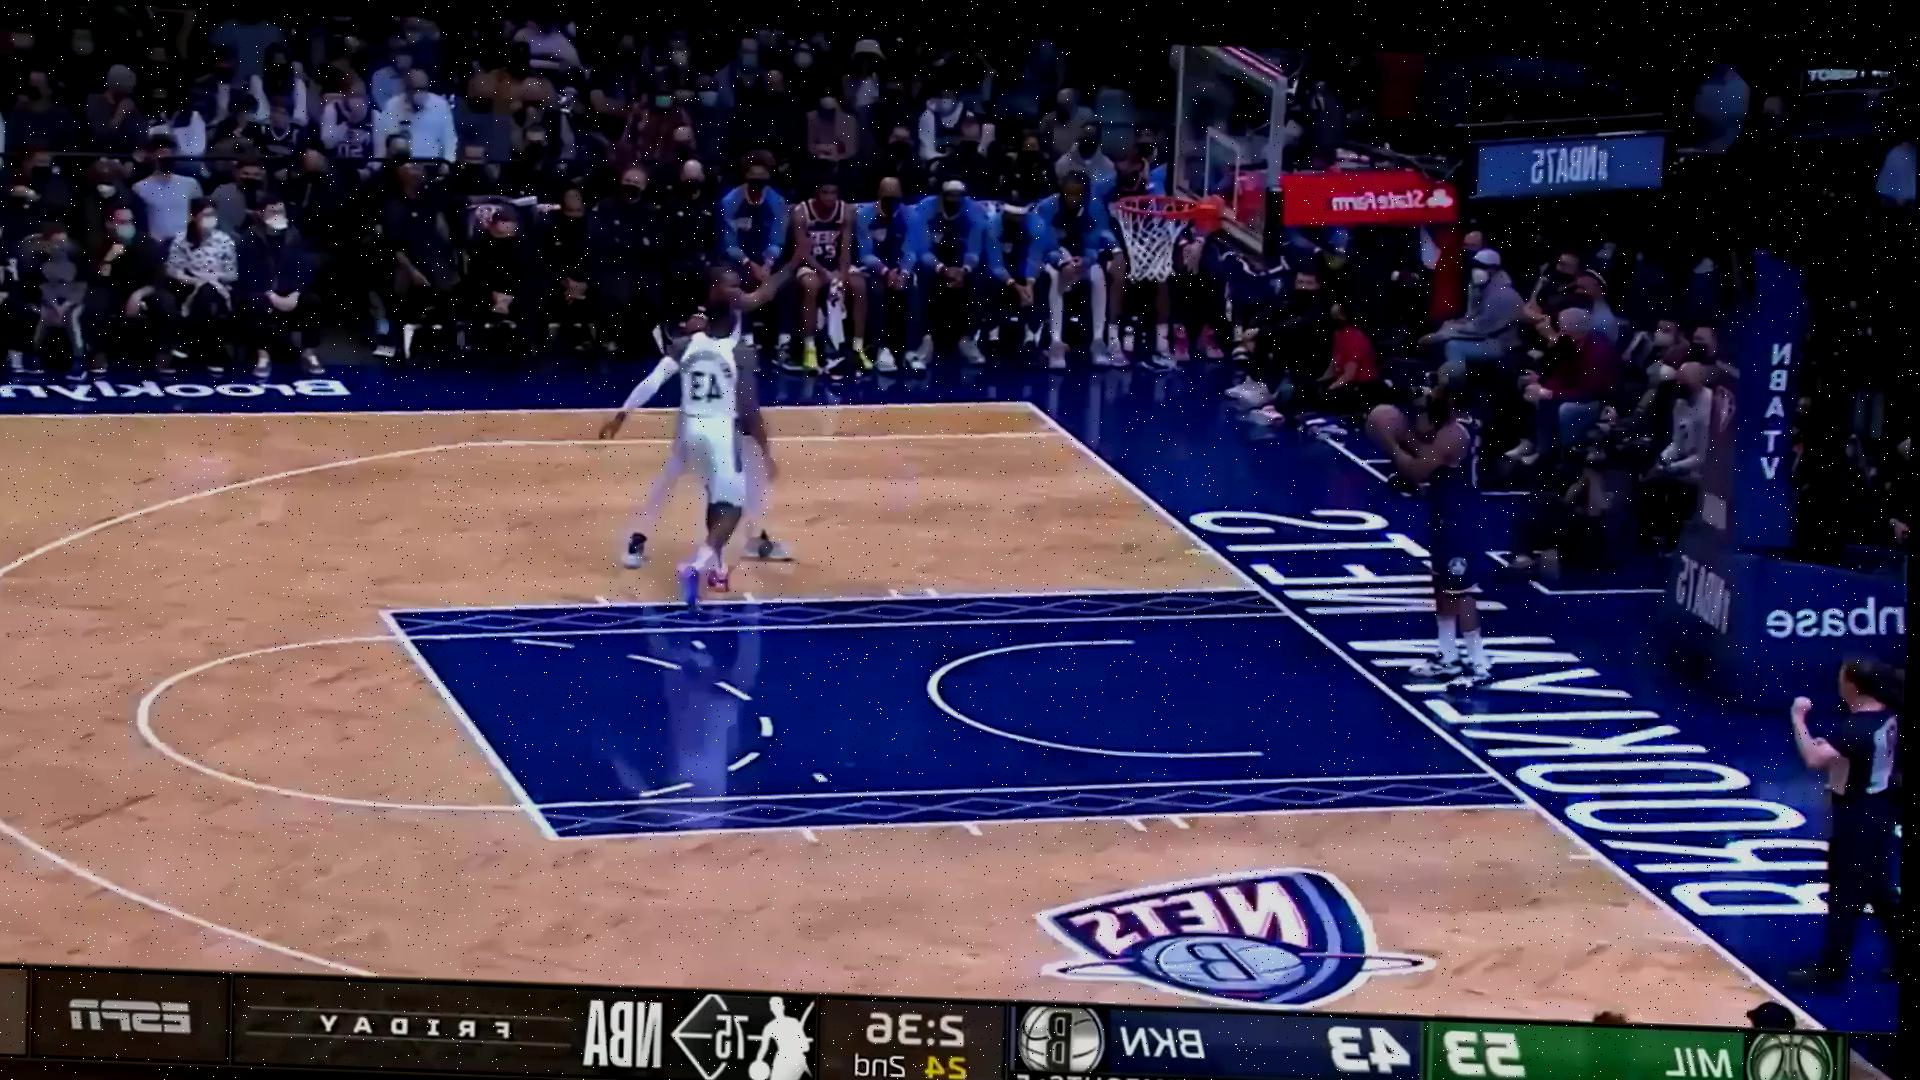no_foul: (595, 244, 818, 601)
